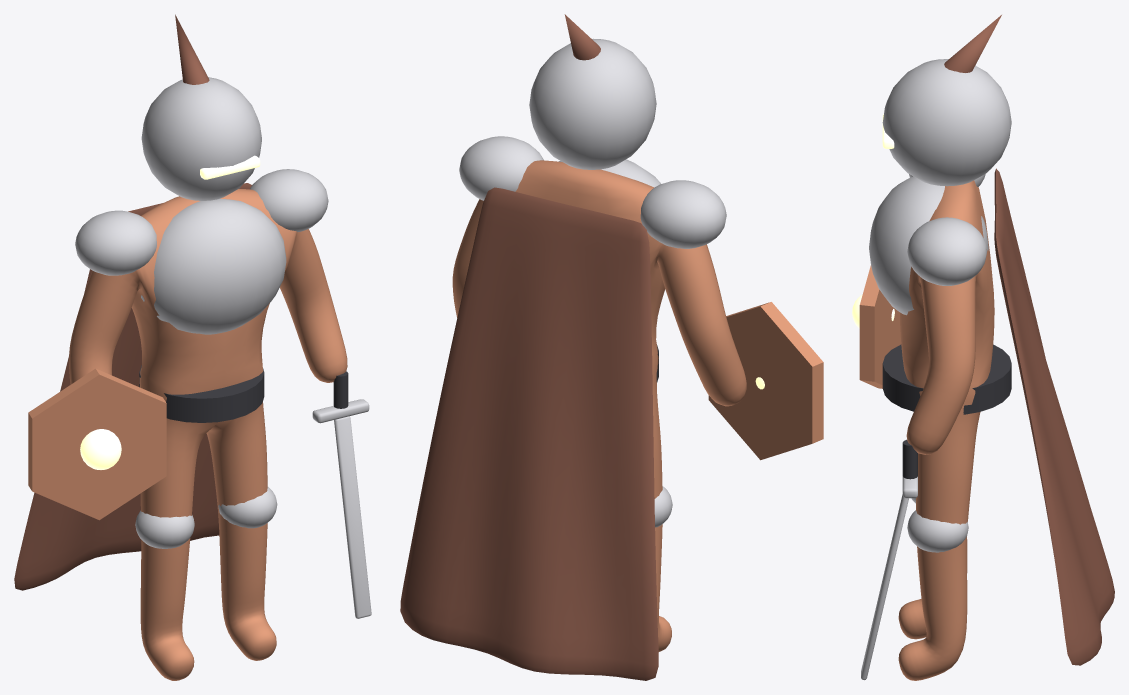
Rendered from knight.glb.
3 views of the same model, side by side, from view 1: azimuth 30°, elevation 25°; view 2: azimuth 150°, elevation 25°; view 3: azimuth 270°, elevation 25° (orthographic). The views are drawn at different scales.
Parts seen in each view (by area): view 1: skin; view 2: skin; view 3: skin.
Boxes of the visible parts, box(x1,y1,x2,y2) form: skin: box(14, 14, 371, 680); skin: box(400, 14, 823, 680); skin: box(852, 15, 1114, 680).
Size of the model in its own units: 0.5716 by 1 by 0.37.
